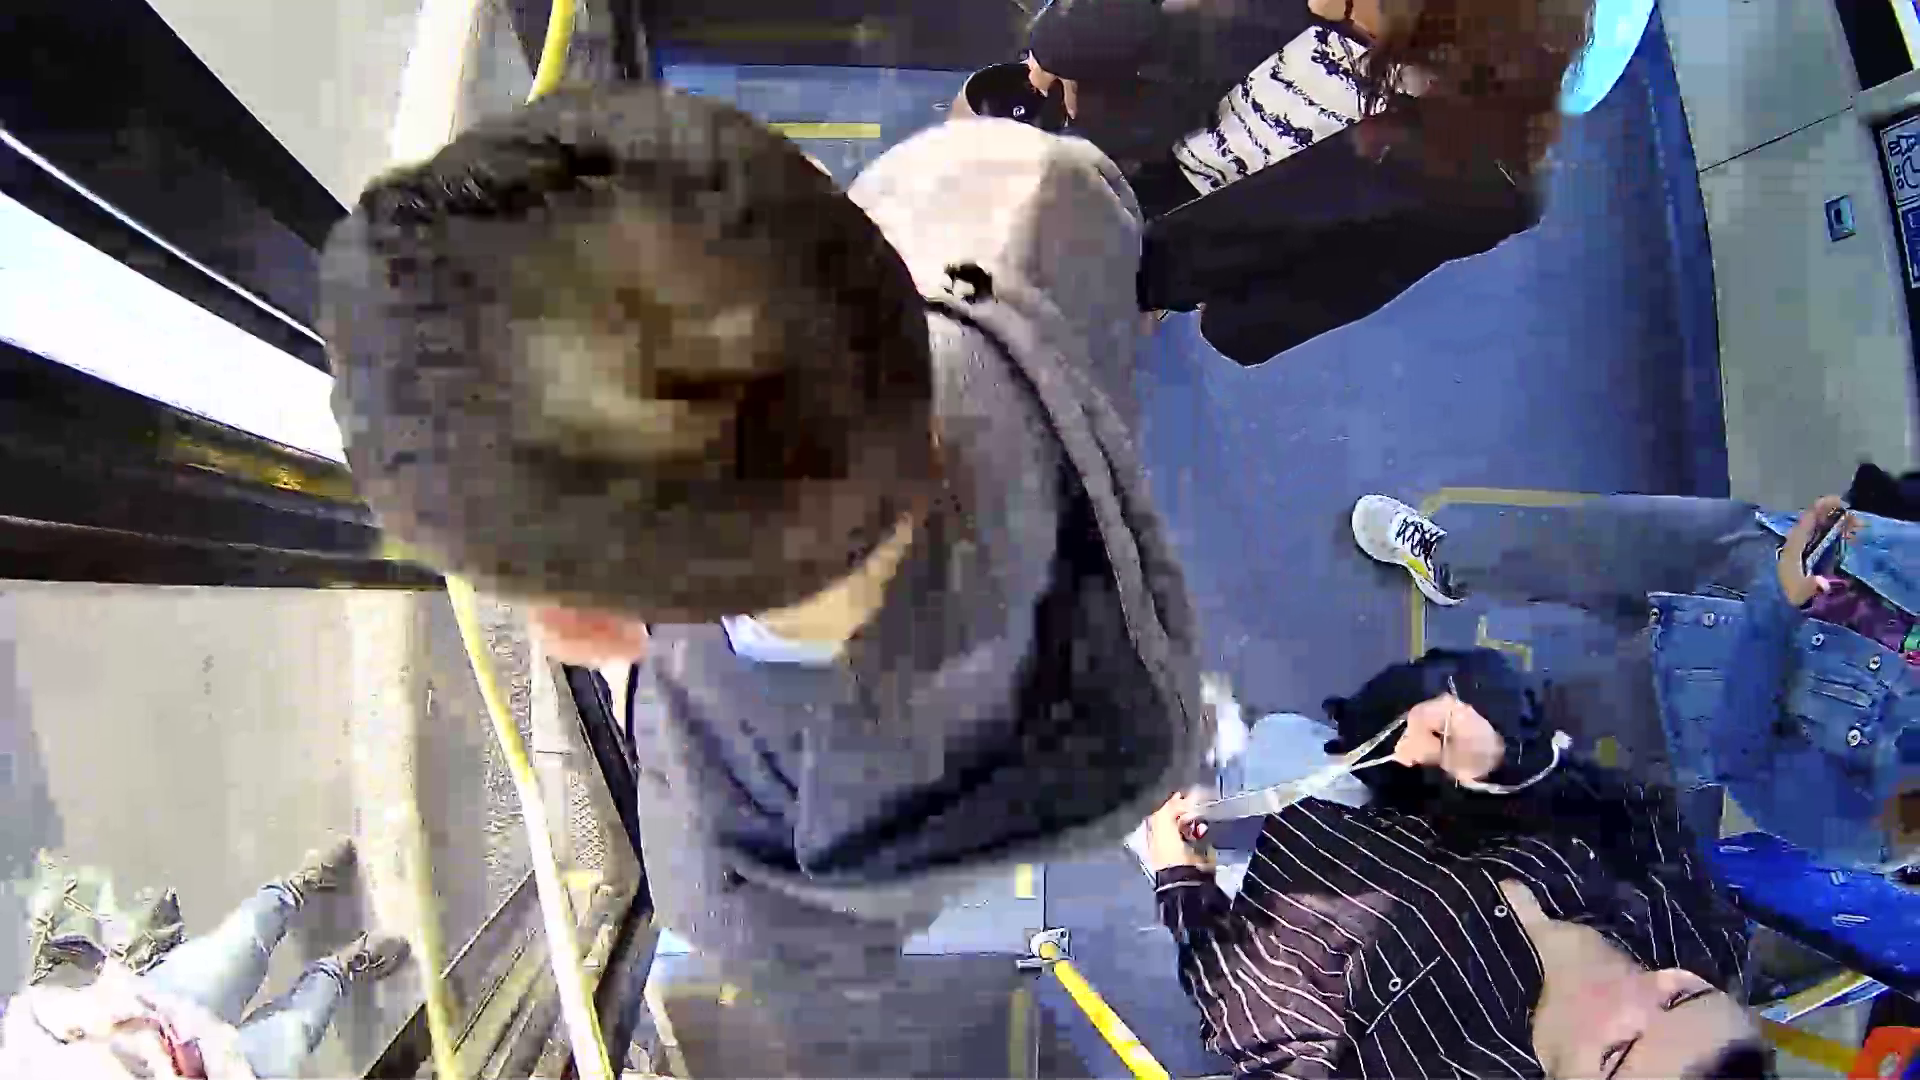person: (288, 100, 1306, 915), (1107, 606, 1851, 1080)
